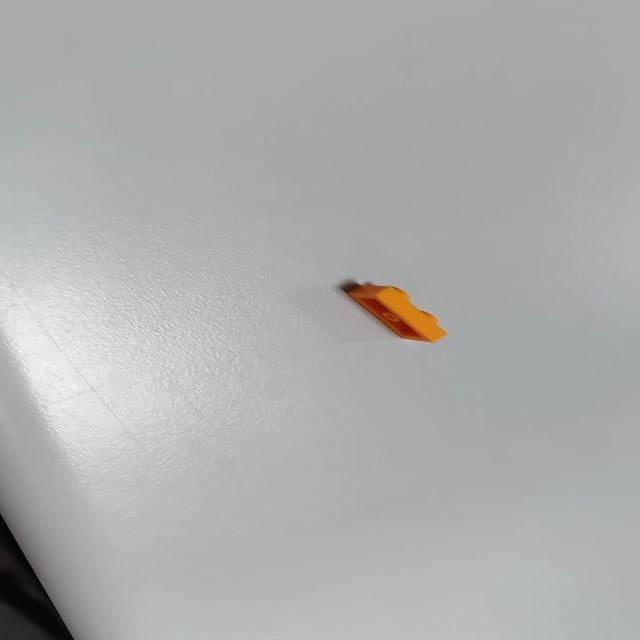C2x1x0: (332, 276, 454, 348)
